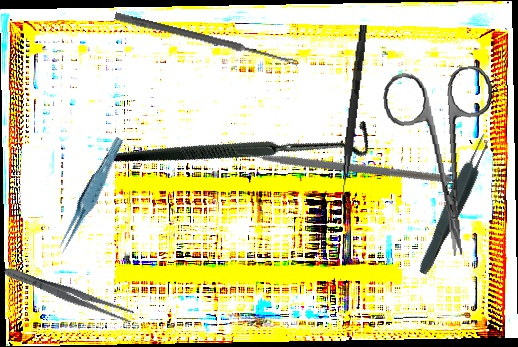Chopper: (228, 60, 453, 259)
Dressing Forceps: (1, 262, 136, 326)
Hook Surgical: (103, 28, 380, 259), (337, 24, 368, 212)
Iris Scissors: (380, 64, 509, 262)
Surgical Spoon: (113, 12, 300, 67)
Tissue Forceps: (413, 131, 497, 278), (48, 136, 132, 255)
